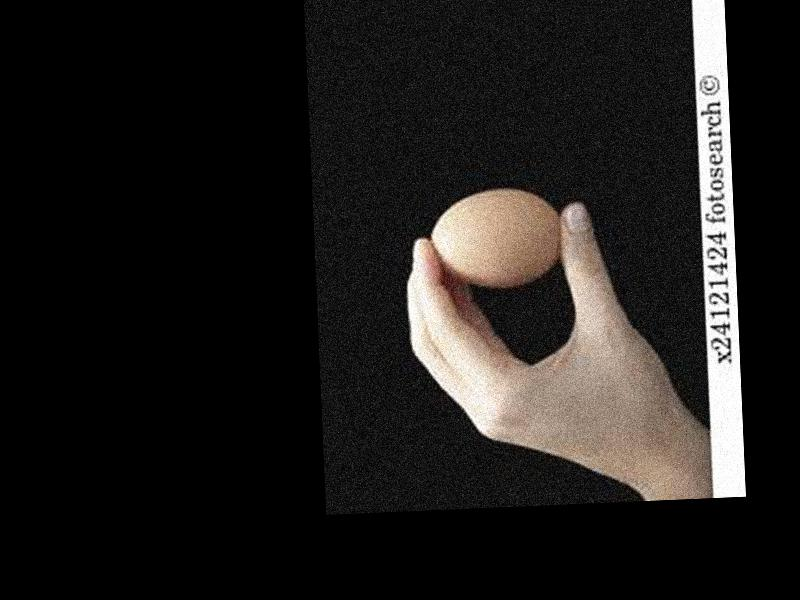Eggs: (425, 187, 563, 290)
